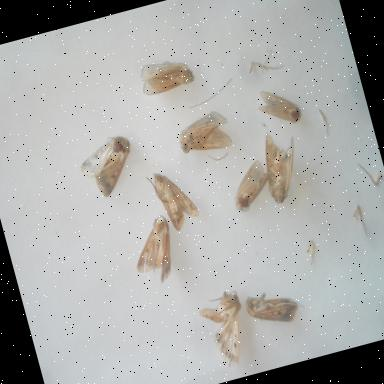abw: (190, 286, 263, 378), (72, 130, 145, 206), (252, 124, 312, 210), (123, 213, 185, 292), (143, 162, 205, 238), (171, 104, 239, 163), (240, 279, 310, 336), (222, 154, 283, 219), (248, 74, 309, 134), (132, 48, 200, 101)
